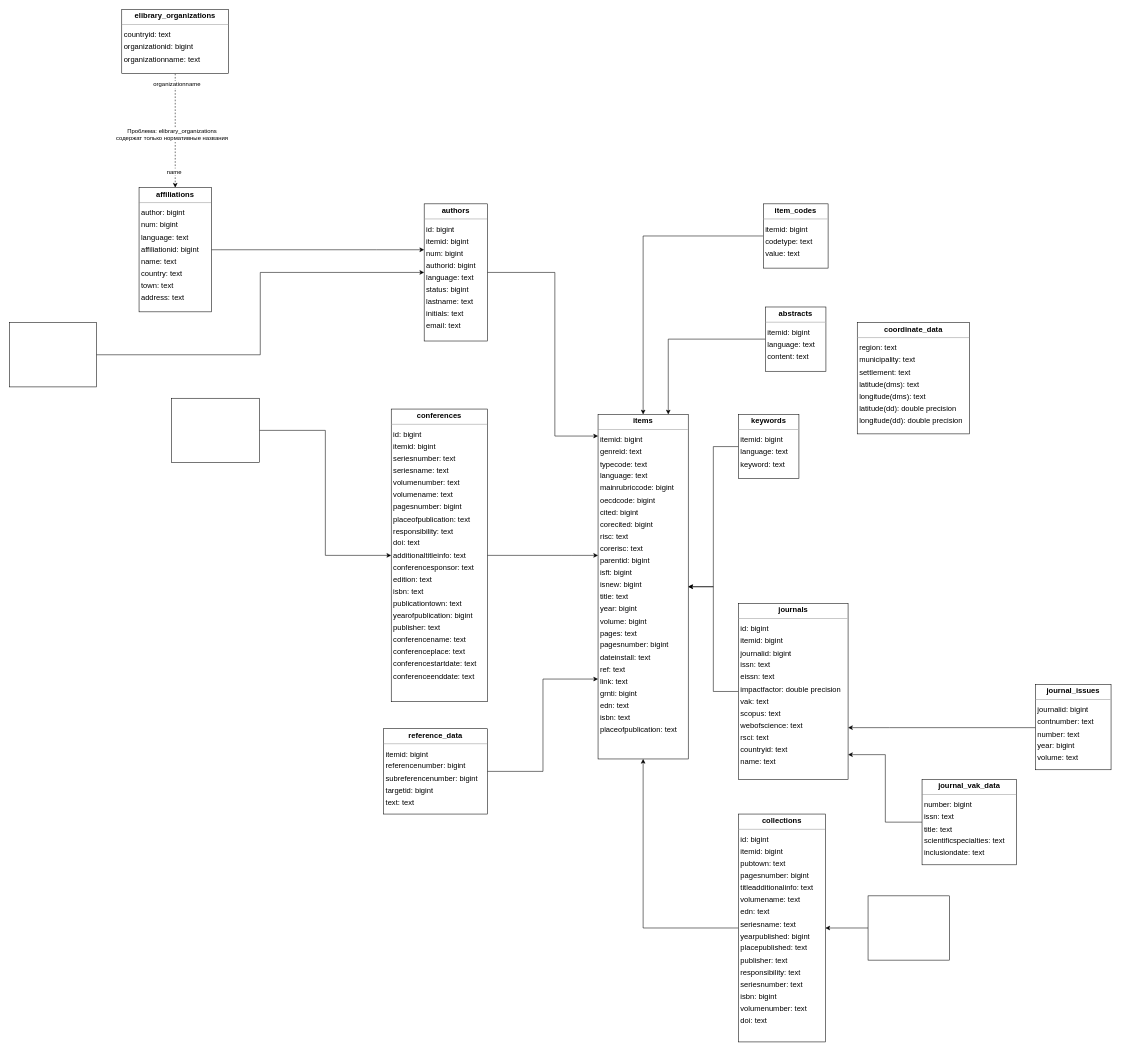
This 1121x1051 diagram has some shape labels left out. The box of each missing label's shape, as (x1, y1, x2, y2) in pixels:
citing_data authorid: bigint citingpublication: text authorpublication: text: (9, 322, 96, 387)
collection_titles collectionid: bigint language: text title: text: (868, 895, 950, 960)
conference_titles conferenceid: bigint language: text title: text: (171, 398, 259, 463)
